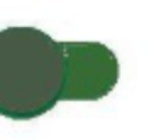Switch: (1, 1, 153, 139)
